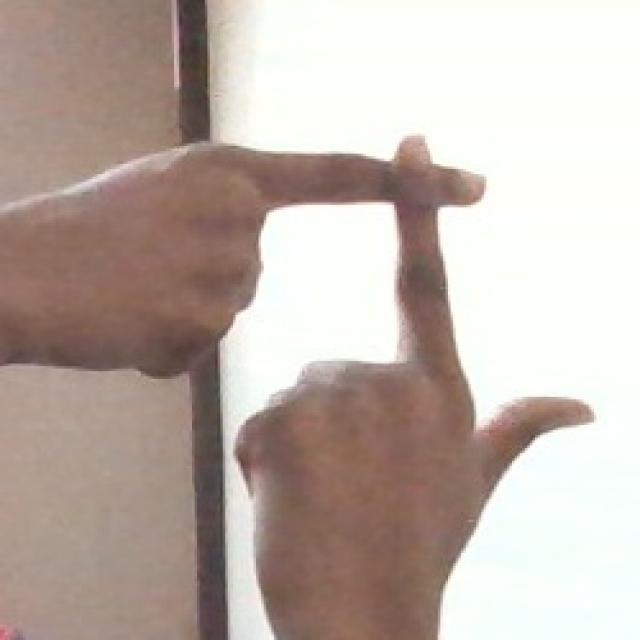Alphabet-J: (73, 109, 604, 596)
